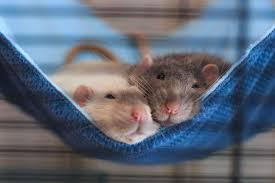rat: (52, 54, 160, 144), (144, 51, 240, 125)
